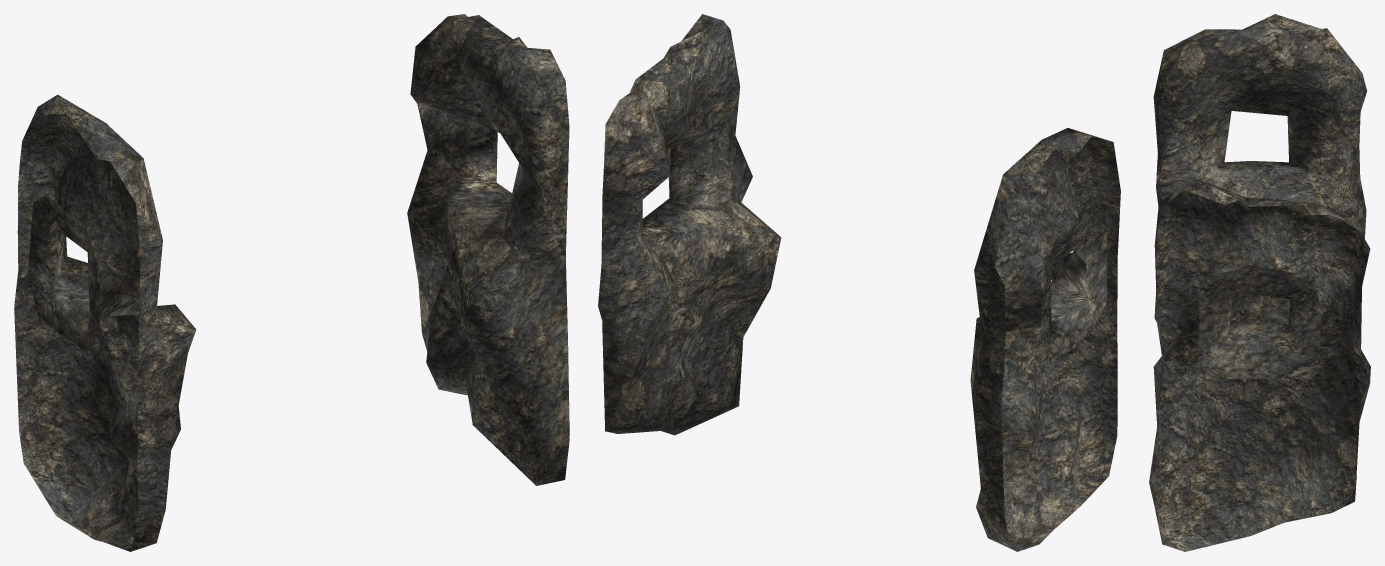
File: Module18_LOD2.fbx
3 renders of one model, left to right at view 1: azimuth 30°, elevation 25°; view 2: azimuth 150°, elevation 25°; view 3: azimuth 270°, elevation 25°, orthographic. The views are drawn at different scales.
Parts seen in each view (by area): view 1: cave_el18A_1000_Group9067; view 2: cave_el18A_1000_Group9067; view 3: cave_el18A_1000_Group9067.
Boxes of the visible parts, x1,y1,x2,y2 form: cave_el18A_1000_Group9067: (14,14,569,551); cave_el18A_1000_Group9067: (598,14,1120,551); cave_el18A_1000_Group9067: (1149,14,1370,551).
Bounding box in the file's own units: 30.52 × 27.63 × 15.28.
